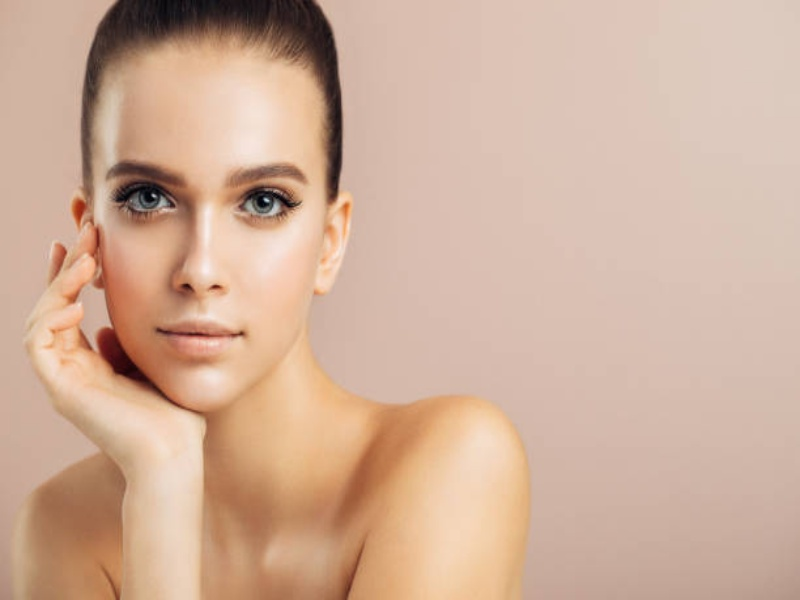face: (102, 86, 316, 375)
